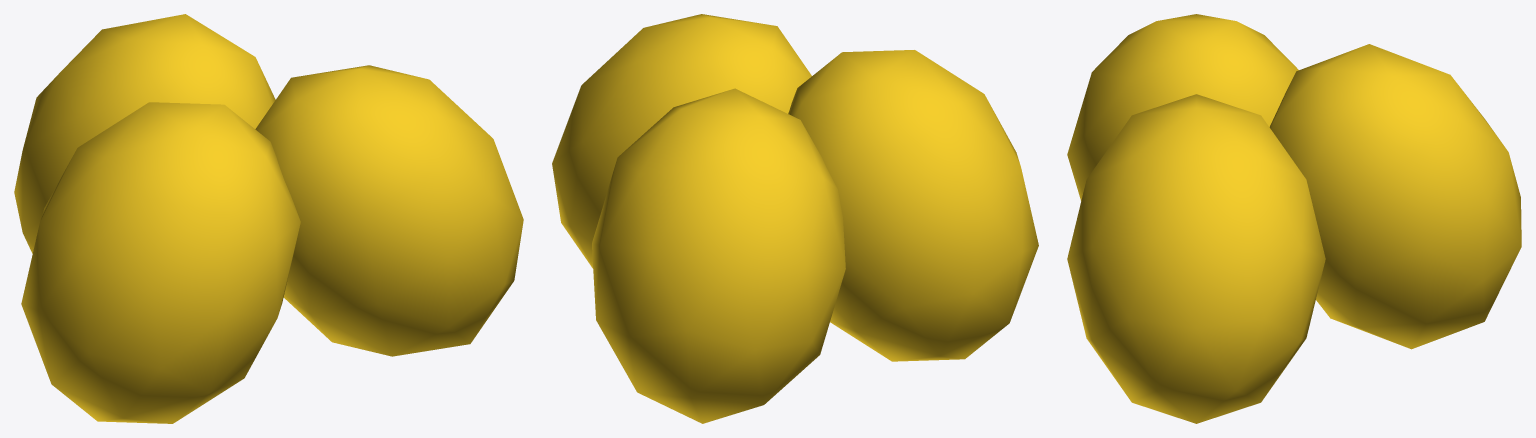
The model's file is Lemon_revard.fbx.
3 renders of one model, left to right at view 1: azimuth 30°, elevation 25°; view 2: azimuth 150°, elevation 25°; view 3: azimuth 270°, elevation 25°, orthographic. The views are drawn at different scales.
Parts seen in each view (by area): view 1: Coconut_farm.002; view 2: Coconut_farm.002; view 3: Coconut_farm.002.
Boxes of the visible parts, left/top/right/bottom form: Coconut_farm.002: left=14, top=14, right=523, bottom=423; Coconut_farm.002: left=552, top=14, right=1038, bottom=423; Coconut_farm.002: left=1067, top=14, right=1521, bottom=423.
Size of the model in its own units: 0.9821 by 0.8582 by 0.5882.
